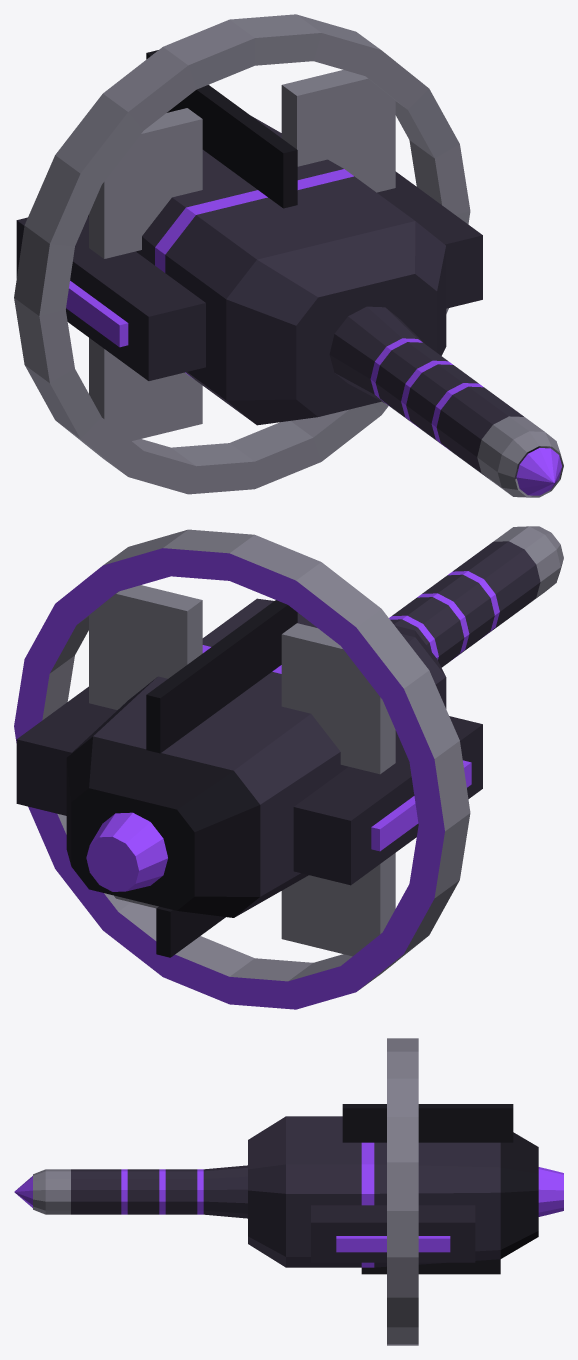
Rendered from drone_lancer.fbx.
3 renders of one model, top to bottom at view 1: azimuth 30°, elevation 25°; view 2: azimuth 150°, elevation 25°; view 3: azimuth 270°, elevation 25°, orthographic. The views are drawn at different scales.
Parts seen in each view (by area): view 1: drone_lancer; view 2: drone_lancer; view 3: drone_lancer.
Boxes of the visible parts, bbox=[...] form: drone_lancer: bbox=[14, 14, 563, 497]; drone_lancer: bbox=[14, 526, 563, 1009]; drone_lancer: bbox=[14, 1038, 563, 1345].
Bounding box in the file's own units: 0.49 × 0.49 × 0.87.
